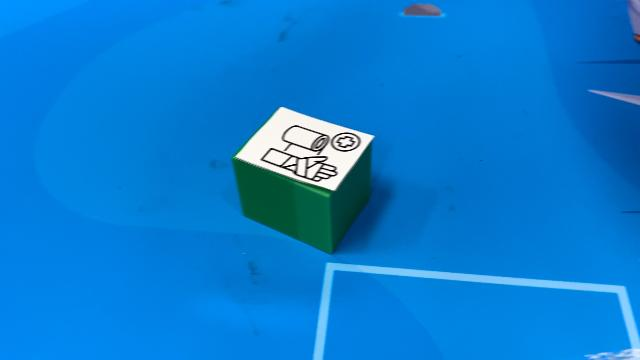bandage: (230, 106, 376, 254)
